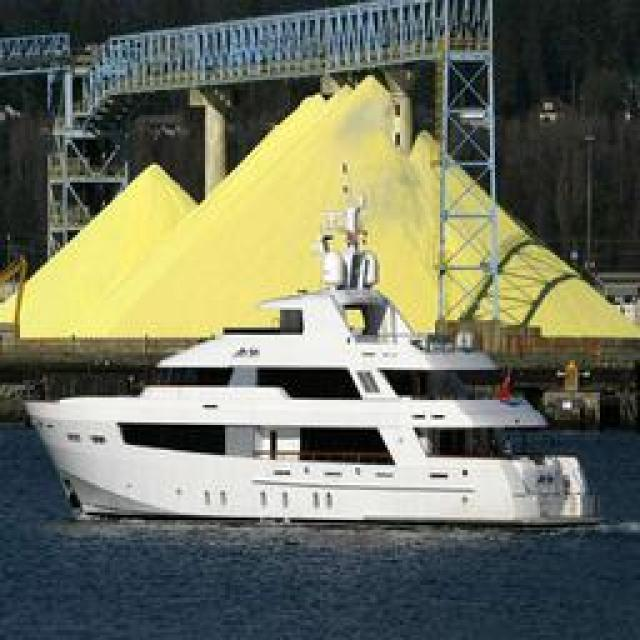ship2: (24, 210, 603, 531)
